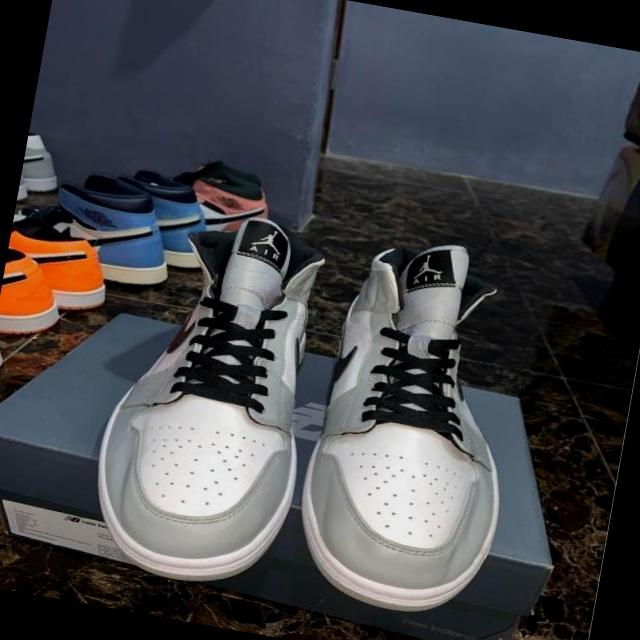nike_fake_jordan: (274, 222, 548, 630), (76, 198, 342, 600)
